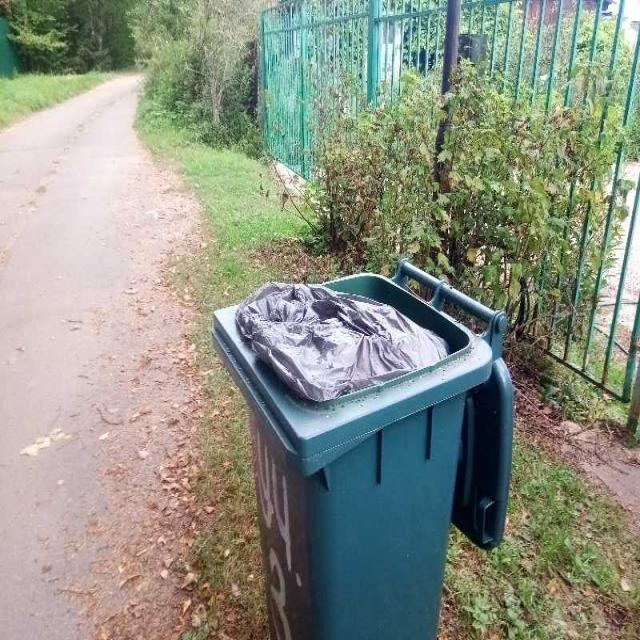Dumpster: (210, 257, 506, 638)
